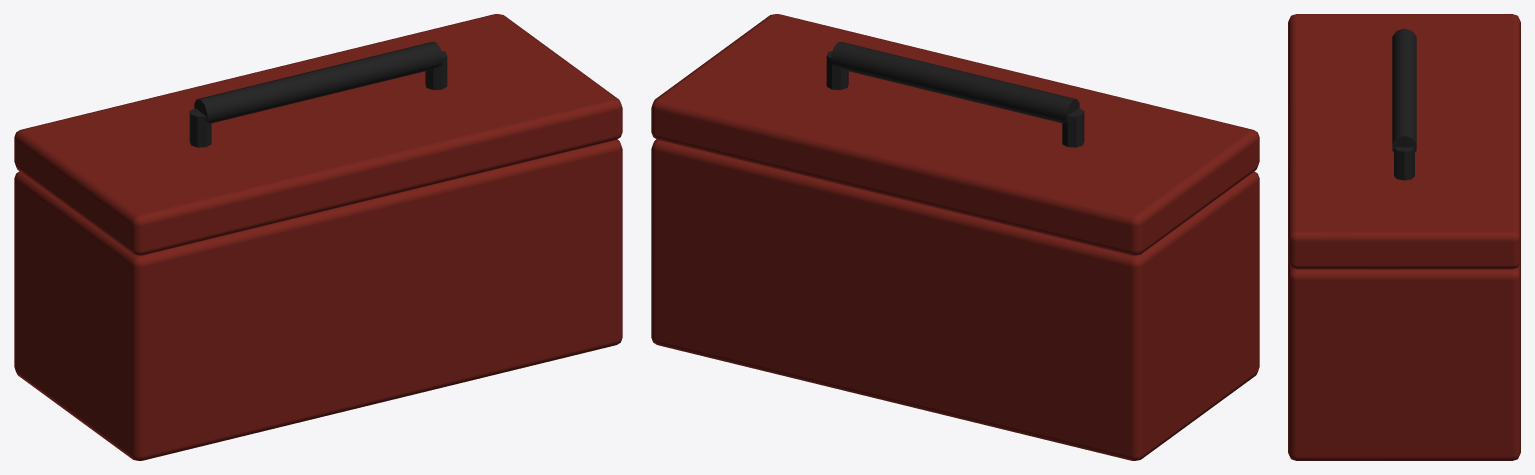
Rendered from toolbox.glb.
3 views of the same model, side by side, from view 1: azimuth 30°, elevation 25°; view 2: azimuth 150°, elevation 25°; view 3: azimuth 270°, elevation 25° (orthographic). The views are drawn at different scales.
Parts seen in each view (by area): view 1: kasten, deckel, griff, stuetze-0.12; view 2: kasten, deckel, griff, stuetze-0.12; view 3: deckel, kasten, griff, stuetze0.12.
Part boxes in pixels (bbox=[...]): kasten: bbox=[14, 139, 622, 460]; deckel: bbox=[14, 14, 622, 255]; griff: bbox=[194, 42, 442, 123]; stuetze-0.12: bbox=[189, 108, 211, 147]; kasten: bbox=[651, 139, 1259, 460]; deckel: bbox=[651, 14, 1259, 255]; griff: bbox=[831, 42, 1079, 123]; stuetze-0.12: bbox=[1062, 108, 1084, 147]; deckel: bbox=[1288, 14, 1520, 269]; kasten: bbox=[1288, 261, 1520, 460]; griff: bbox=[1392, 28, 1416, 152]; stuetze0.12: bbox=[1394, 147, 1414, 180].
Bounding box in the file's own units: 0.5 × 0.282 × 0.22.
